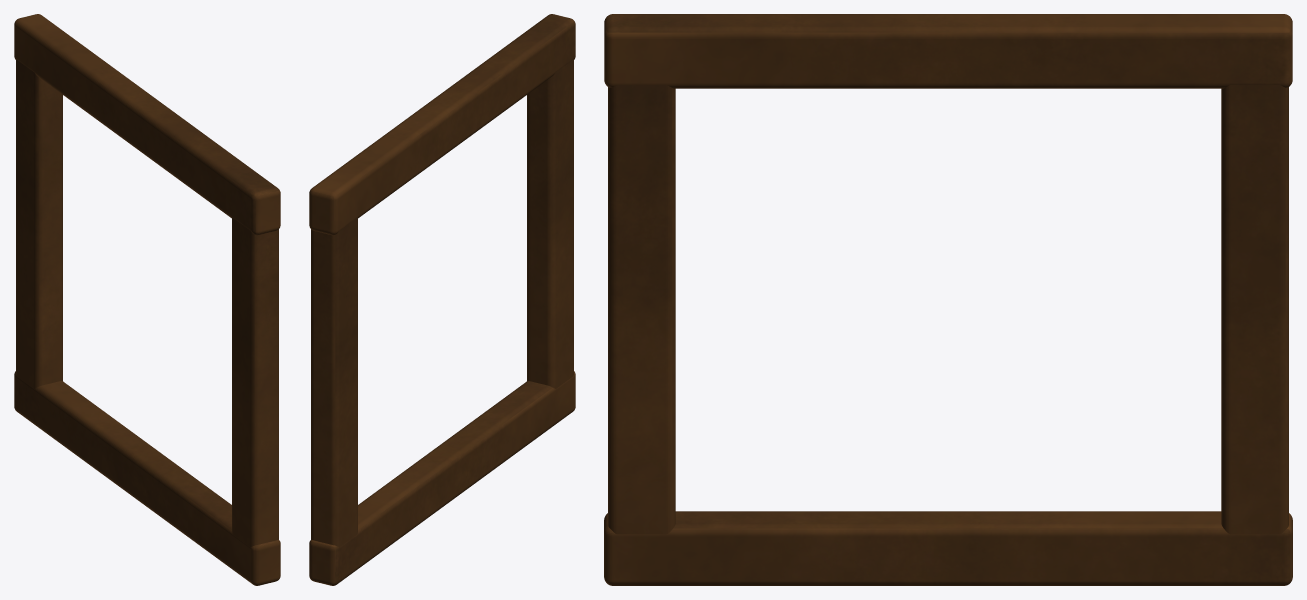
Rendered from Wall_Corner.fbx.
The picture shows the model from 3 angles, left to right: view 1: azimuth 30°, elevation 25°; view 2: azimuth 150°, elevation 25°; view 3: azimuth 270°, elevation 25°; orthographic projection. The views are drawn at different scales.
Visible parts, largest first — view 1: Wall_Corner; view 2: Wall_Corner; view 3: Wall_Corner.
Boxes of the visible parts, x1,y1,x2,y2 form: Wall_Corner: (14, 14, 280, 585); Wall_Corner: (309, 14, 575, 585); Wall_Corner: (604, 14, 1292, 585).
Bounding box in the file's own units: 30.3 × 402 × 449.
